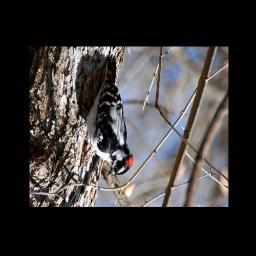Woodpecker: (84, 55, 136, 179)
